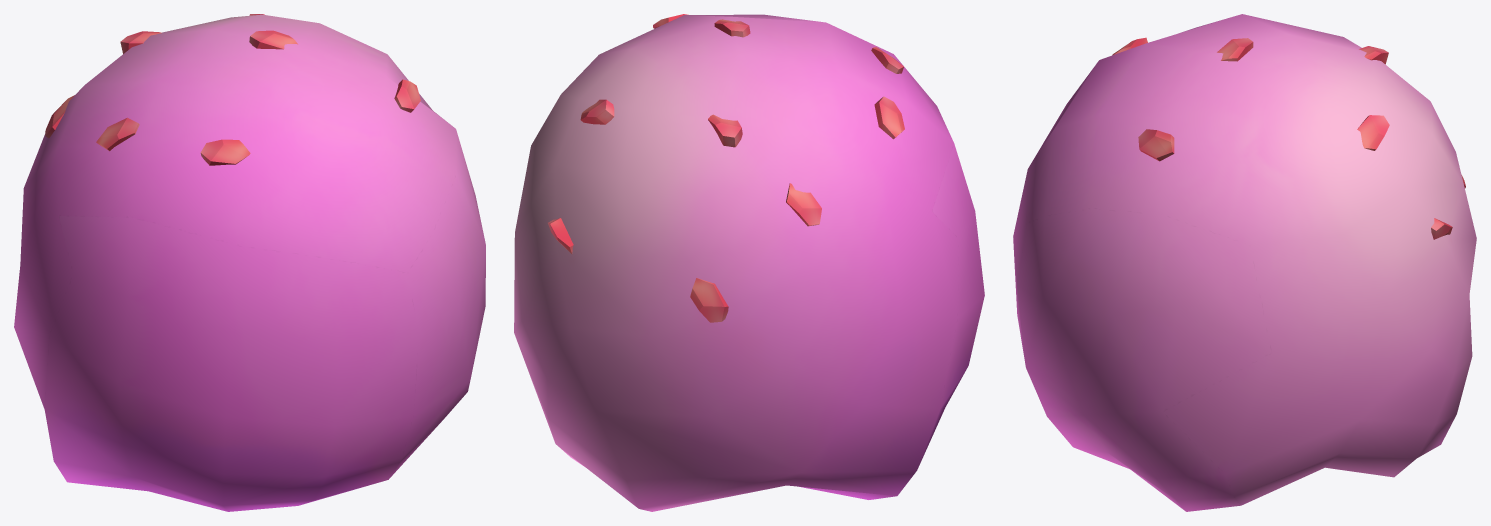
File: bocha_rosa.fbx
The picture shows the model from 3 angles, left to right: view 1: azimuth 30°, elevation 25°; view 2: azimuth 150°, elevation 25°; view 3: azimuth 270°, elevation 25°; orthographic projection.
Visible parts, largest first — view 1: Retopo_Cube.002; view 2: Retopo_Cube.002; view 3: Retopo_Cube.002.
Boxes of the visible parts, box(x1,y1,x2,y2) form: Retopo_Cube.002: box(14, 14, 485, 511); Retopo_Cube.002: box(514, 14, 984, 511); Retopo_Cube.002: box(1013, 14, 1476, 511).
Bounding box in the file's own units: 172 × 170 × 170.
1 material, 1 textured.
